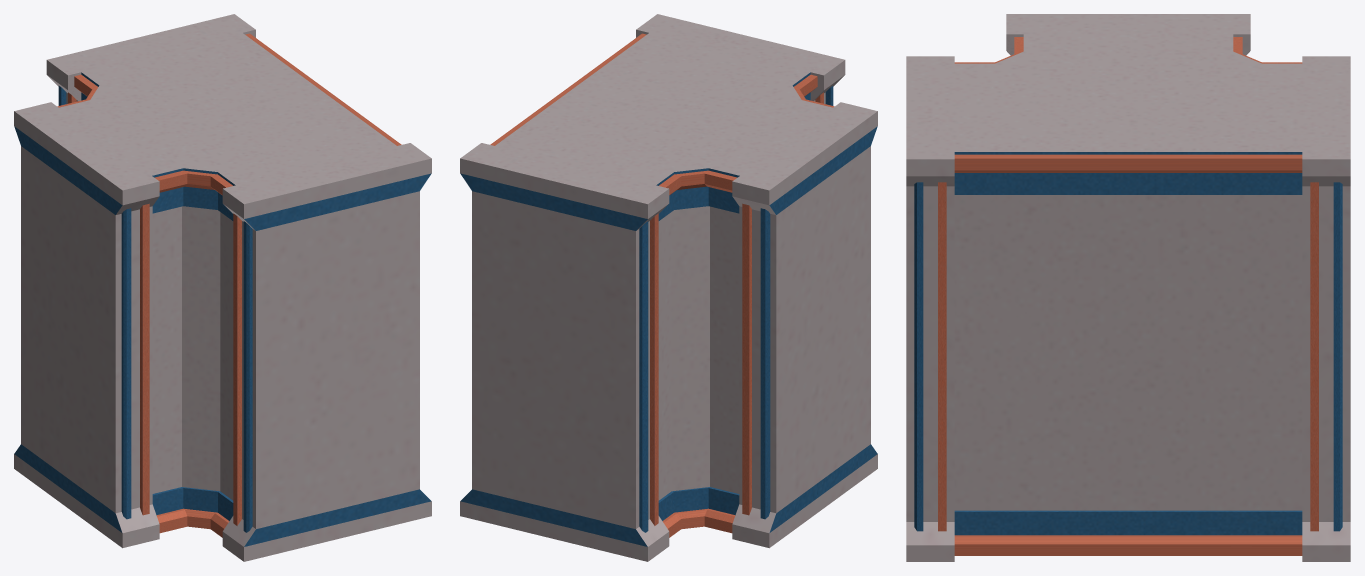
The model's file is TWall01.fbx.
The picture shows the model from 3 angles, left to right: view 1: azimuth 30°, elevation 25°; view 2: azimuth 150°, elevation 25°; view 3: azimuth 270°, elevation 25°; orthographic projection. The views are drawn at different scales.
Visible parts, largest first — view 1: T-Wall; view 2: T-Wall; view 3: T-Wall.
Part boxes in pixels (x1,y1,x2,y2): T-Wall: (14,14,431,561); T-Wall: (460,14,877,561); T-Wall: (906,14,1350,561).
Size of the model in its own units: 775 by 1000 by 1000.
